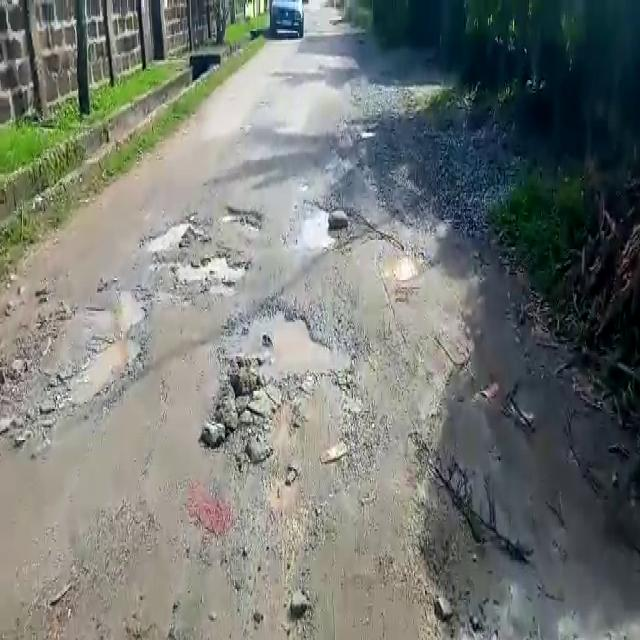Pothole: (215, 299, 358, 378), (57, 282, 146, 407), (138, 218, 194, 258), (181, 247, 248, 280), (292, 204, 336, 254), (376, 242, 424, 282)
